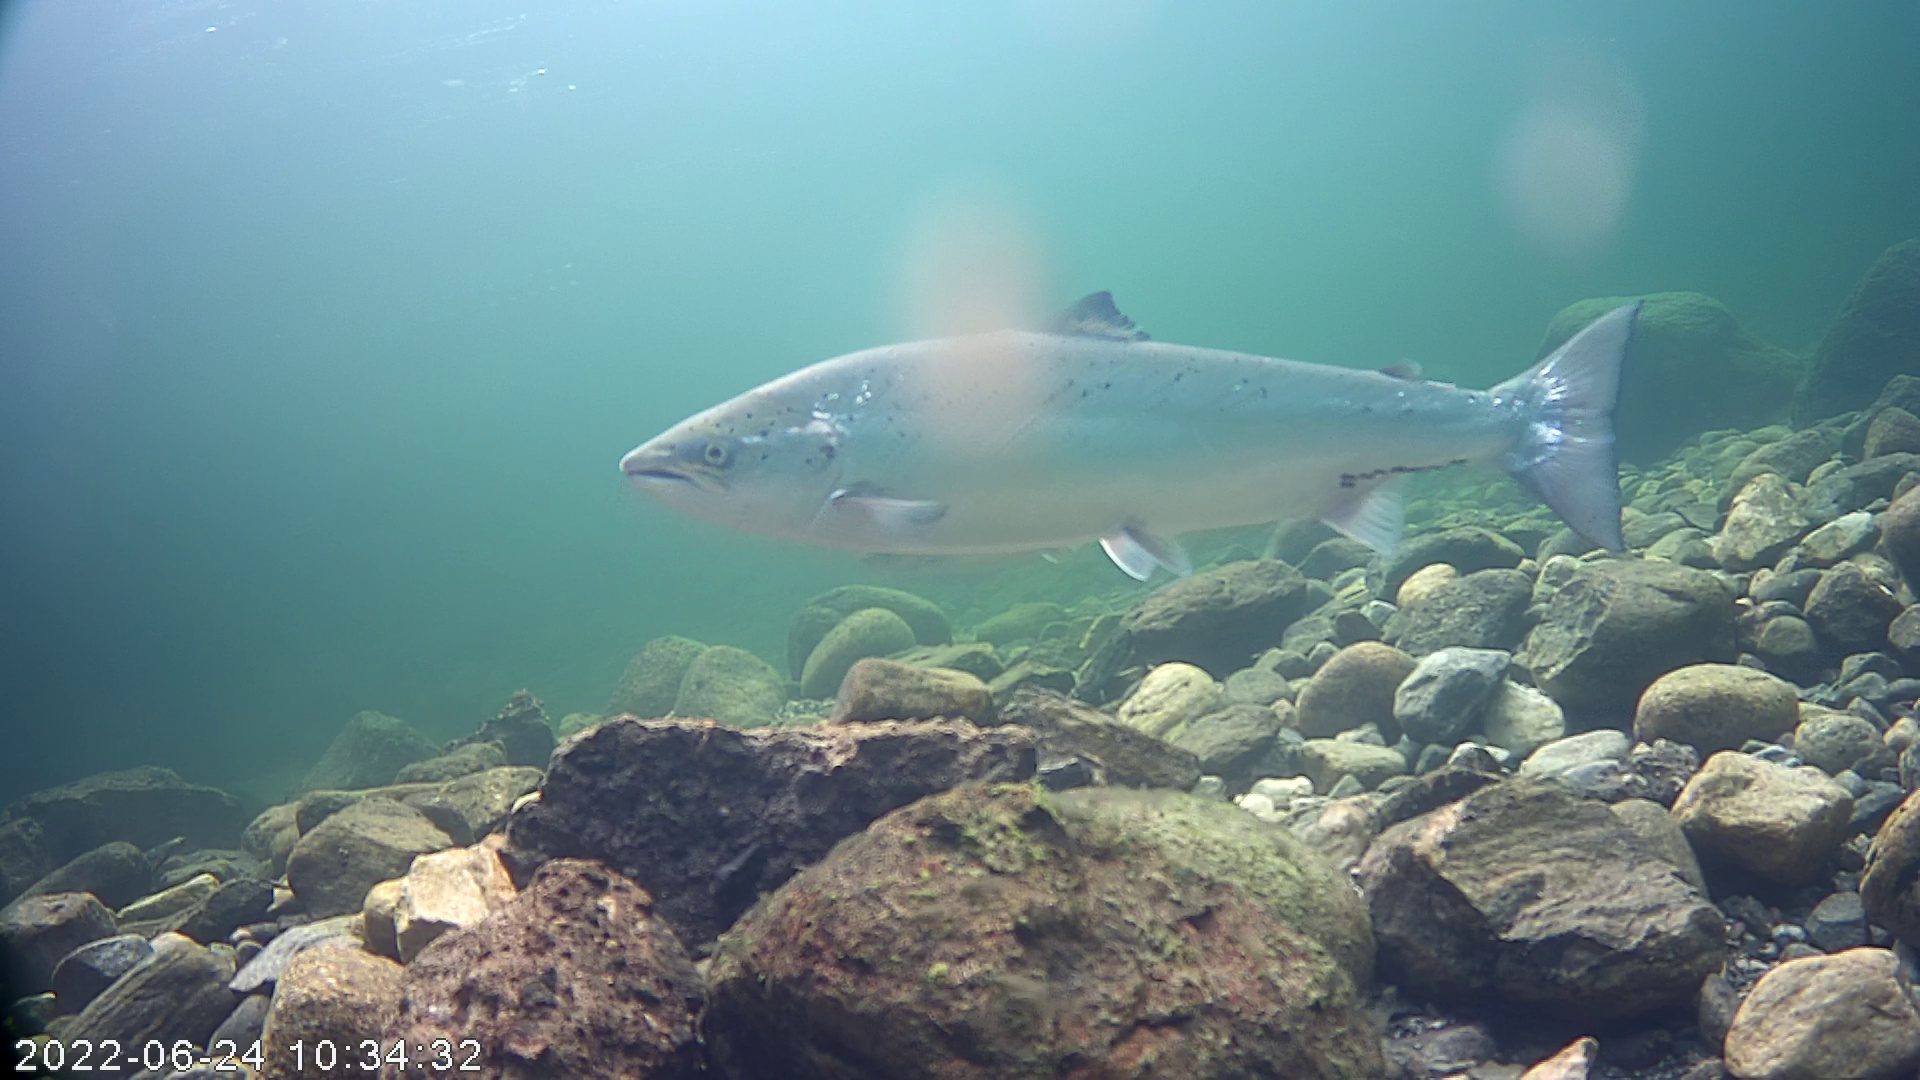salmon: (618, 286, 1644, 582)
